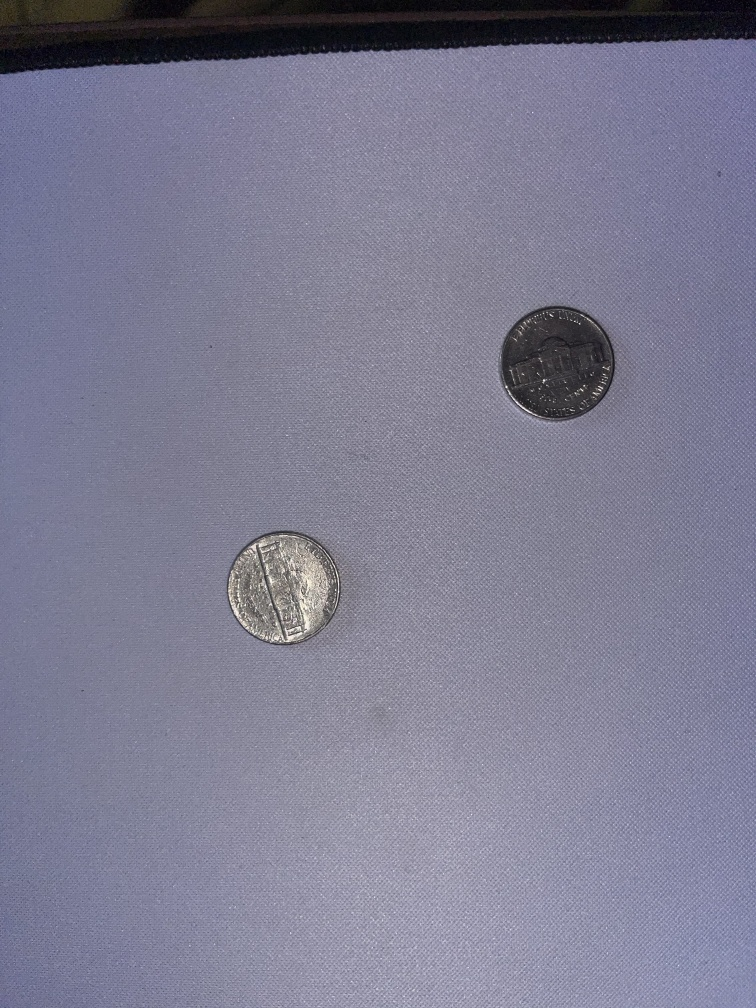nickel: (218, 526, 352, 653), (496, 301, 619, 428)
